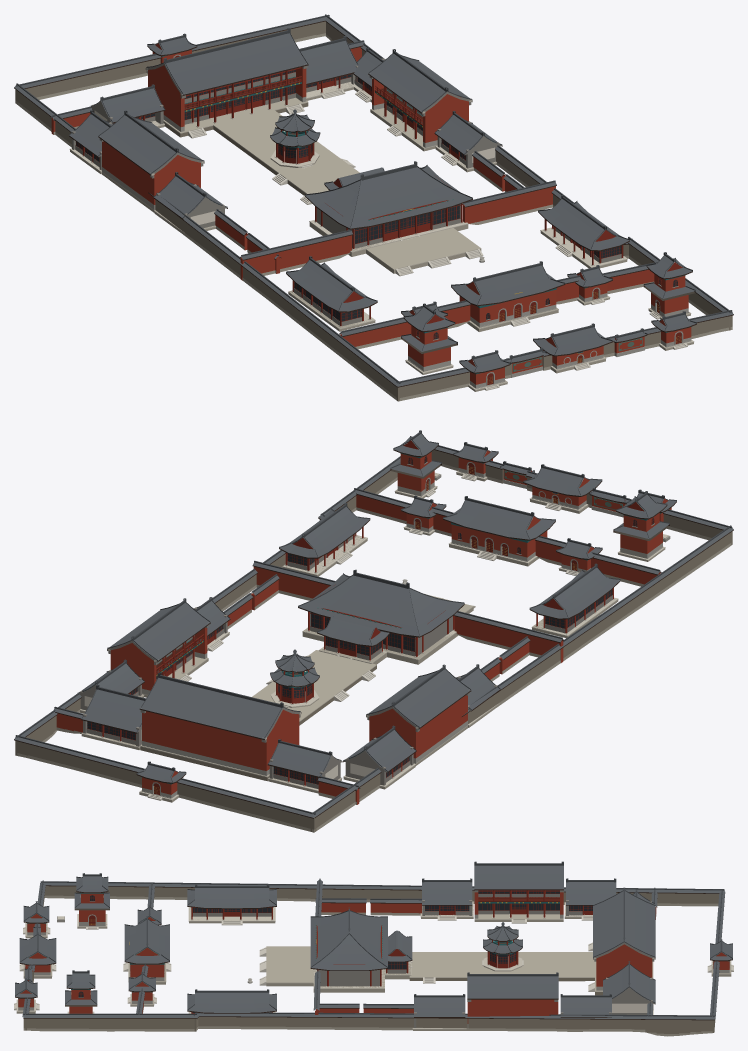
3 views of the same model, one above another, from view 1: azimuth 30°, elevation 25°; view 2: azimuth 150°, elevation 25°; view 3: azimuth 270°, elevation 25° (orthographic). The views are drawn at different scales.
Visible parts, largest first — view 1: QC11 正觉寺 Zhengjue Si; view 2: QC11 正觉寺 Zhengjue Si; view 3: QC11 正觉寺 Zhengjue Si.
Part boxes in pixels (x1=…): QC11 正觉寺 Zhengjue Si: x1=14, y1=14, x2=733, y2=401; QC11 正觉寺 Zhengjue Si: x1=14, y1=430, x2=733, y2=832; QC11 正觉寺 Zhengjue Si: x1=14, y1=861, x2=733, y2=1036.
Size of the model in its own units: 71.31 by 14.81 by 159.
